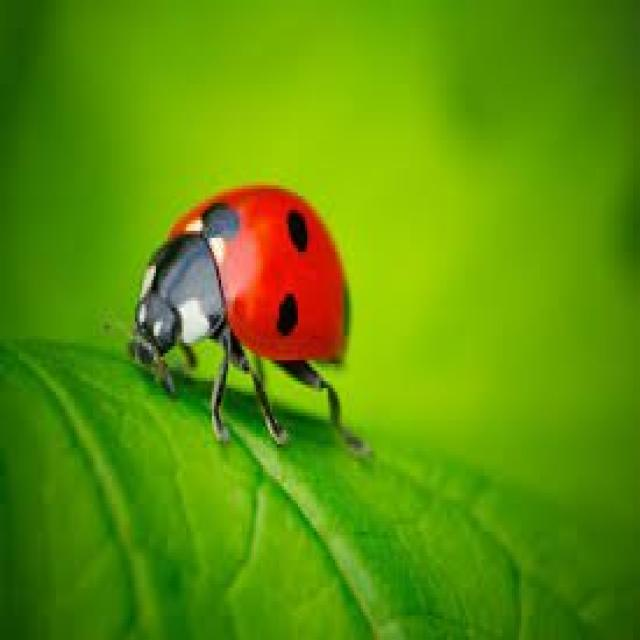ladybug: (130, 185, 368, 451)
